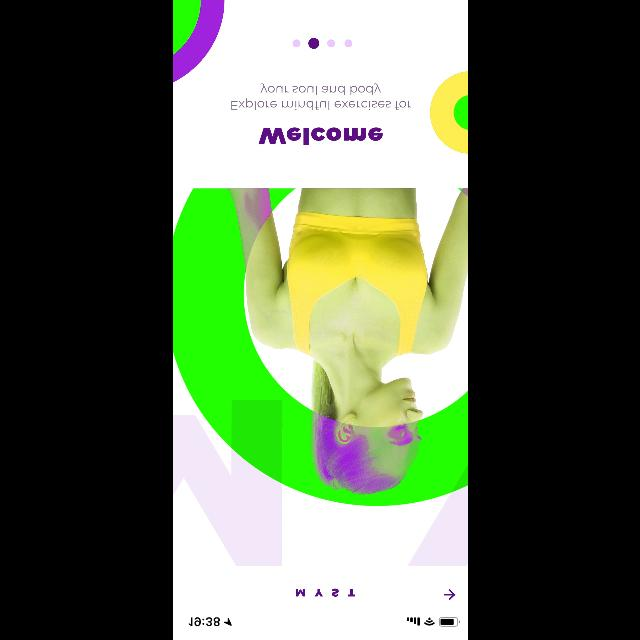icon: (444, 588, 454, 600)
image: (172, 188, 468, 566)
pageindicator: (292, 38, 352, 48)
text: (231, 84, 411, 110), (258, 127, 382, 145), (295, 588, 355, 598)
uppertaskbar: (188, 617, 460, 627)
